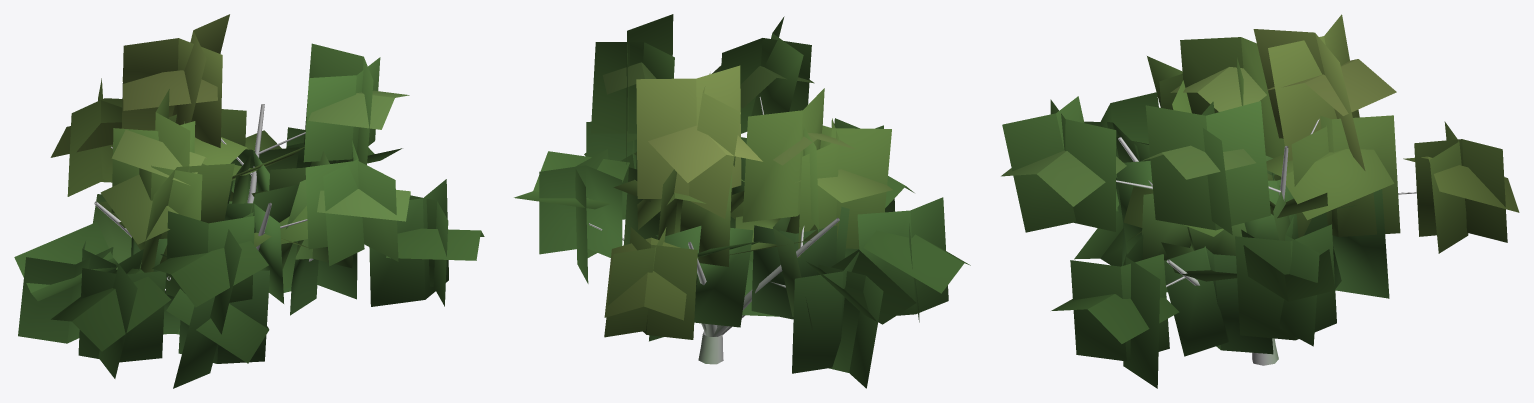
Rendered from hawthorn.glb.
3 views of the same model, side by side, from view 1: azimuth 30°, elevation 25°; view 2: azimuth 150°, elevation 25°; view 3: azimuth 270°, elevation 25° (orthographic). The views are drawn at different scales.
Parts seen in each view (by area): view 1: isl_hawthorn; view 2: isl_hawthorn; view 3: isl_hawthorn.
Part boxes in pixels (x1,y1,x2,y2): isl_hawthorn: [14, 14, 484, 388]; isl_hawthorn: [514, 14, 970, 388]; isl_hawthorn: [1001, 14, 1519, 388].
Bounding box in the file's own units: 4.16 × 3.01 × 4.37.
